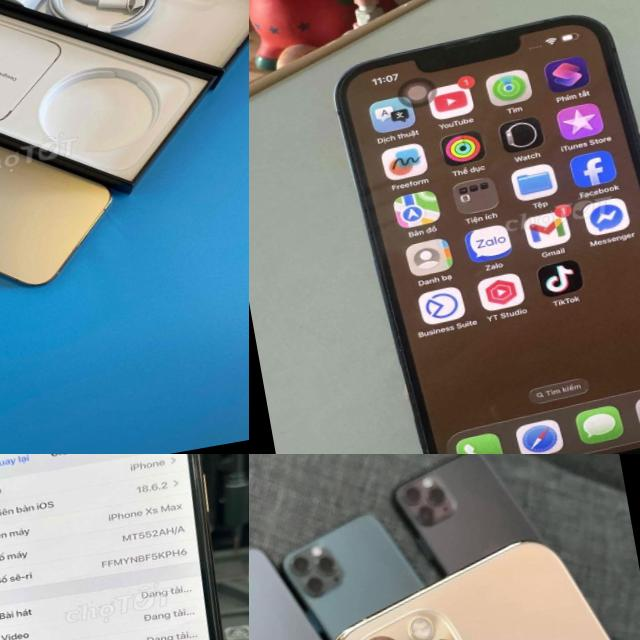gen_12_13: (323, 0, 640, 454), (0, 68, 126, 320)
gen_14: (310, 503, 640, 640)
gen_x_xs: (0, 454, 220, 640)
